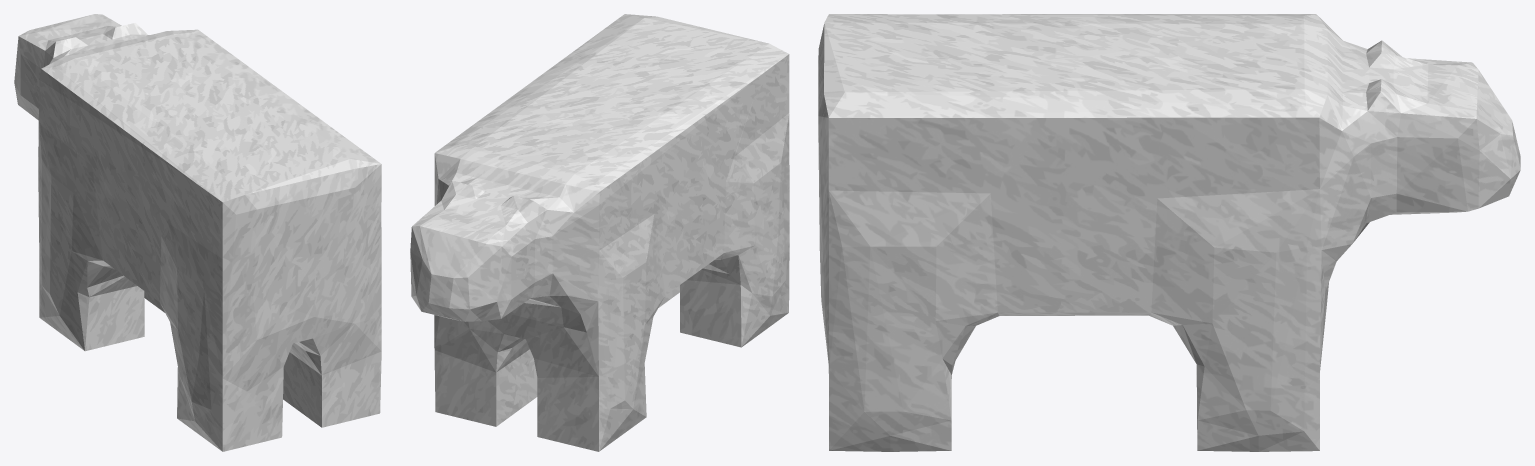
File: OsoA.fbx
3 renders of one model, left to right at view 1: azimuth 30°, elevation 25°; view 2: azimuth 150°, elevation 25°; view 3: azimuth 270°, elevation 25°, orthographic. The views are drawn at different scales.
Visible parts, largest first — view 1: Oso_Polar; view 2: Oso_Polar; view 3: Oso_Polar.
Part boxes in pixels (x1,y1,x2,y2): Oso_Polar: [14, 14, 381, 451]; Oso_Polar: [410, 14, 789, 451]; Oso_Polar: [818, 14, 1520, 451].
Size of the model in its own units: 262 by 370 by 687.
Materials: 1 (1 with a texture image).
